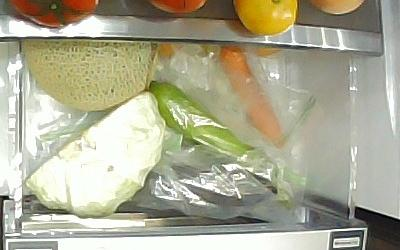cabbage: (26, 90, 166, 219)
carrot_vinyl: (218, 46, 285, 150)
eggplant_vinyl: (148, 159, 279, 212)
melon: (21, 40, 158, 111)
zucchini_vinyl: (148, 79, 291, 210)
